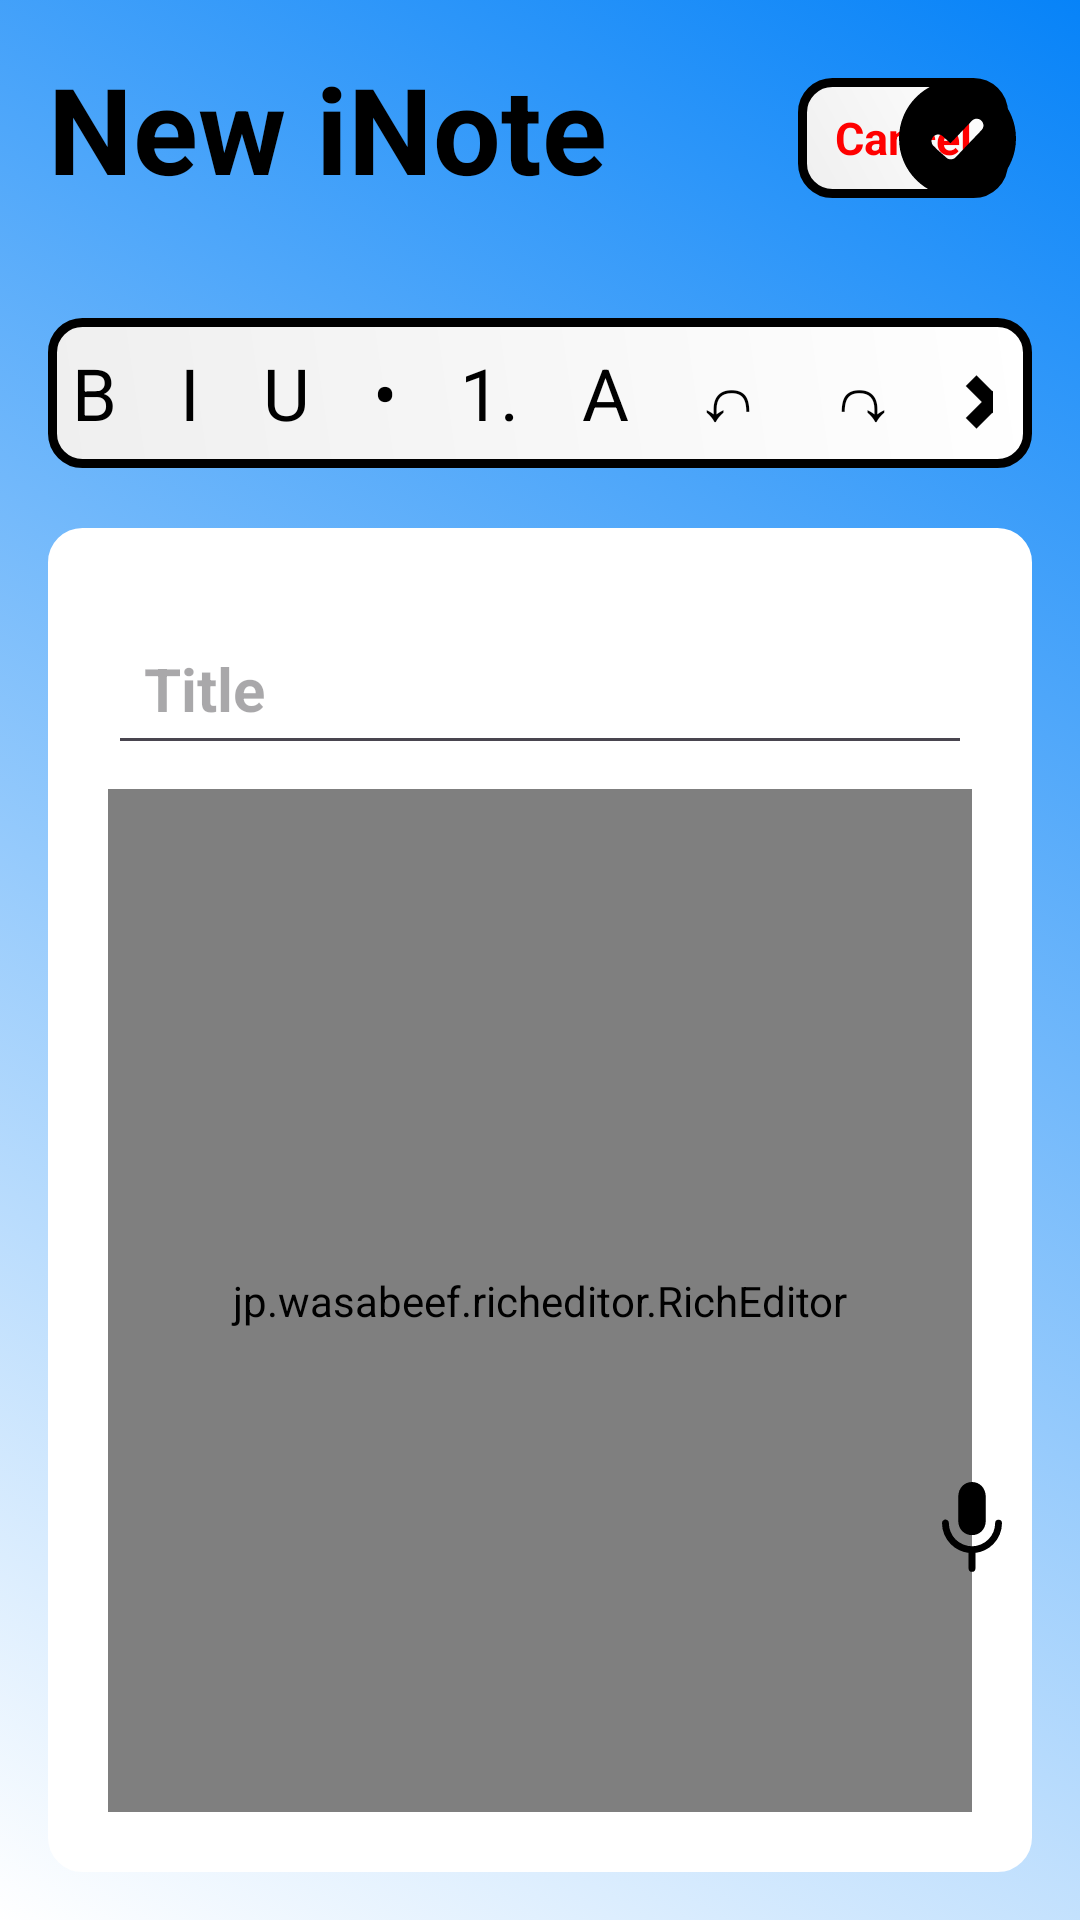

Screen size 1080 x 1920. Icon name, then its center in pixels as [x,y]:
mic: [972,1527]
